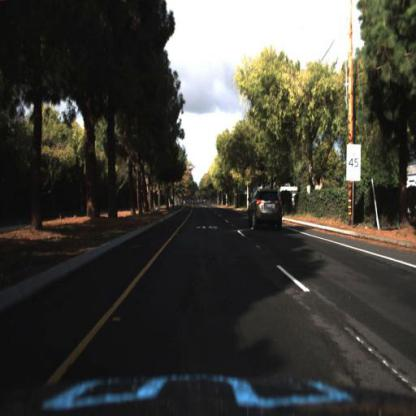car: (244, 188, 286, 235)
